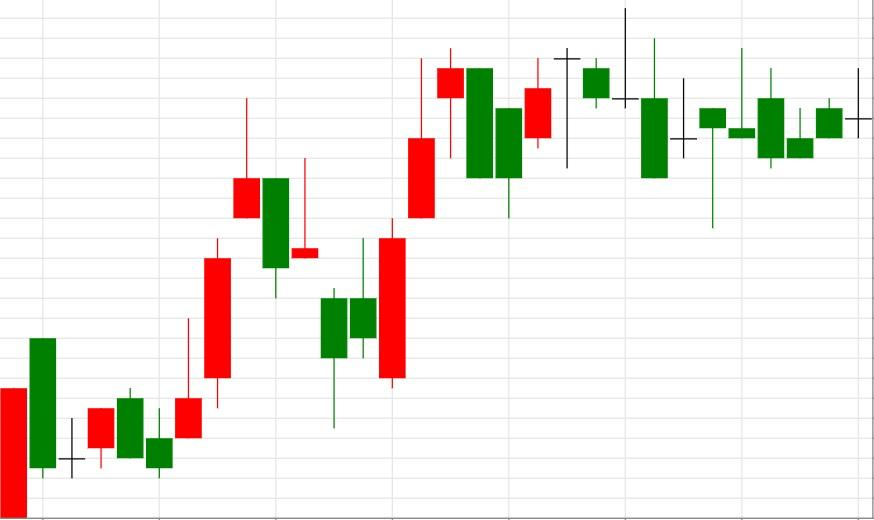bullish_engulfing_rise: (233, 98, 407, 429)
shooting_star_fall: (145, 98, 262, 477)
